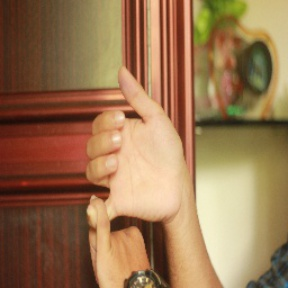S: (67, 65, 192, 287)
